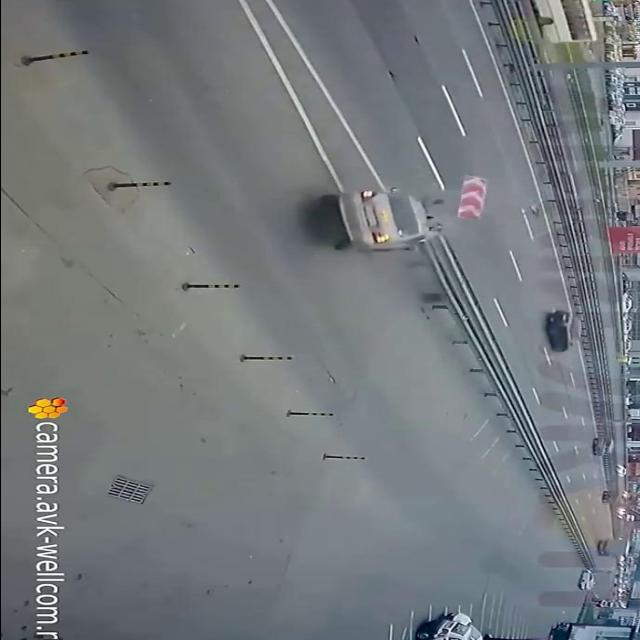accident: (315, 163, 501, 273)
